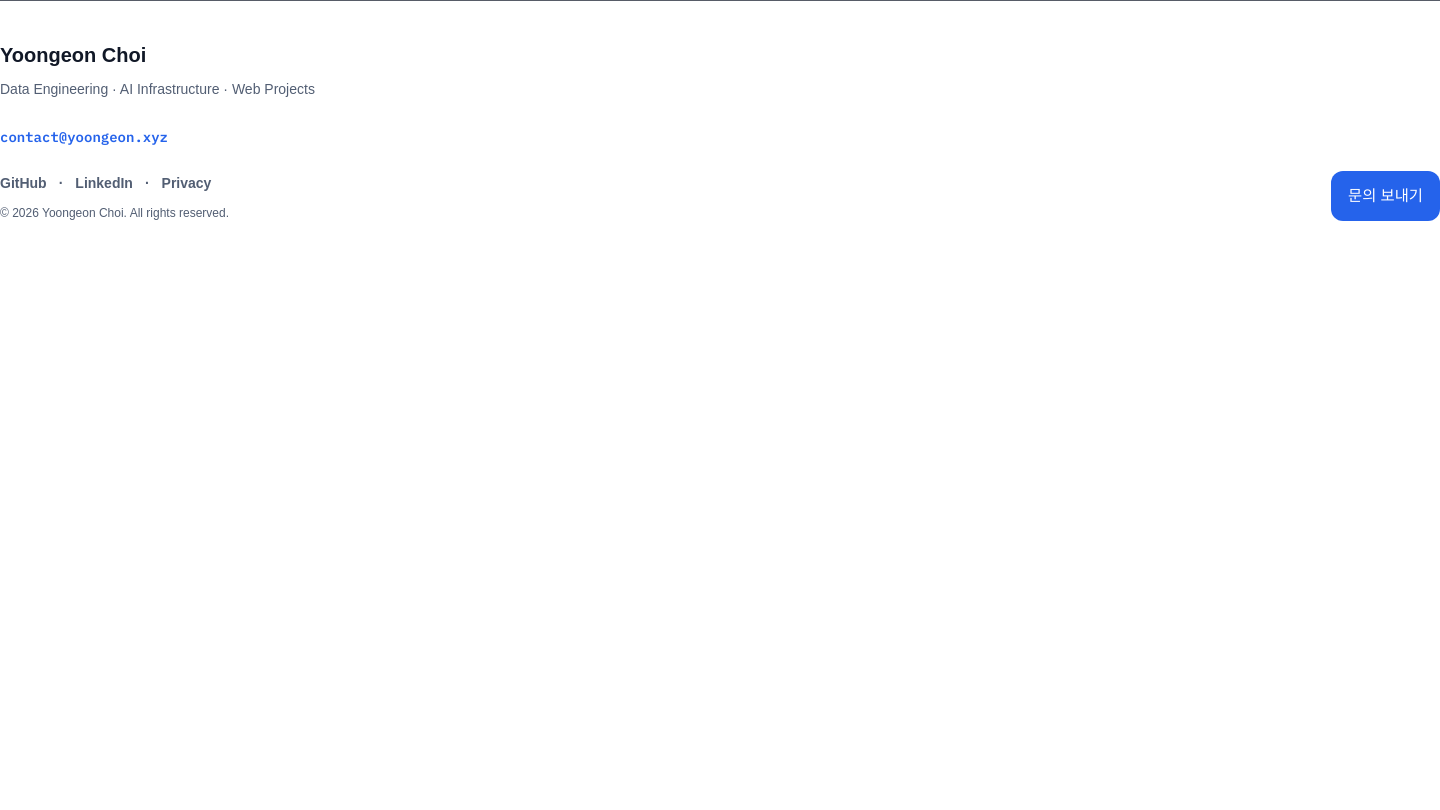
Test: ContactSection › blocks short messages before submitting
Click the button "문의 보내기". click: (1386, 196)
box: [1331,171,1439,221]
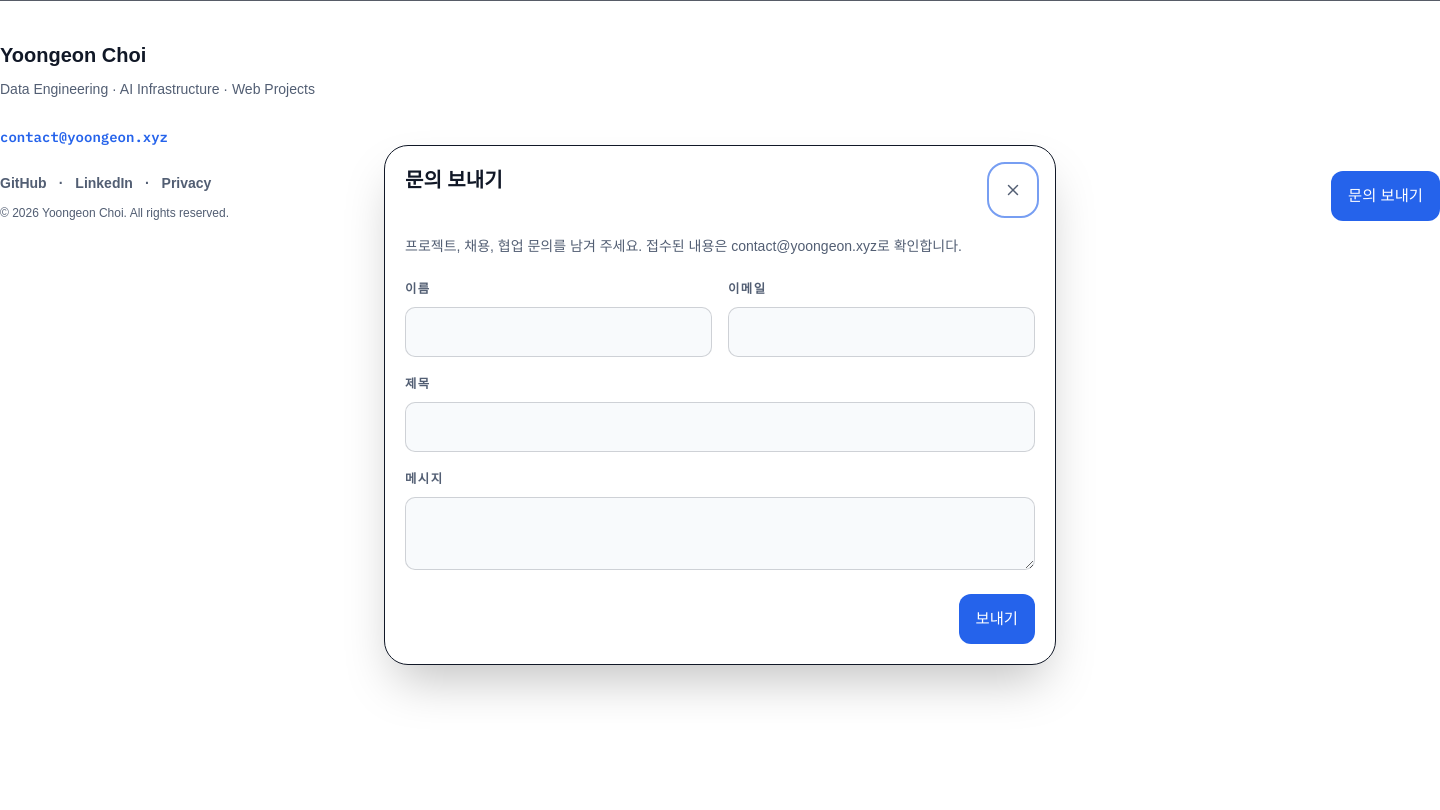
Type "홍길동" into the field labelled "이름". click: (558, 332)
box: [405,307,712,357]
Type "user@example.com" into the field labelled "이메일". click: (882, 332)
box: [728,307,1035,357]
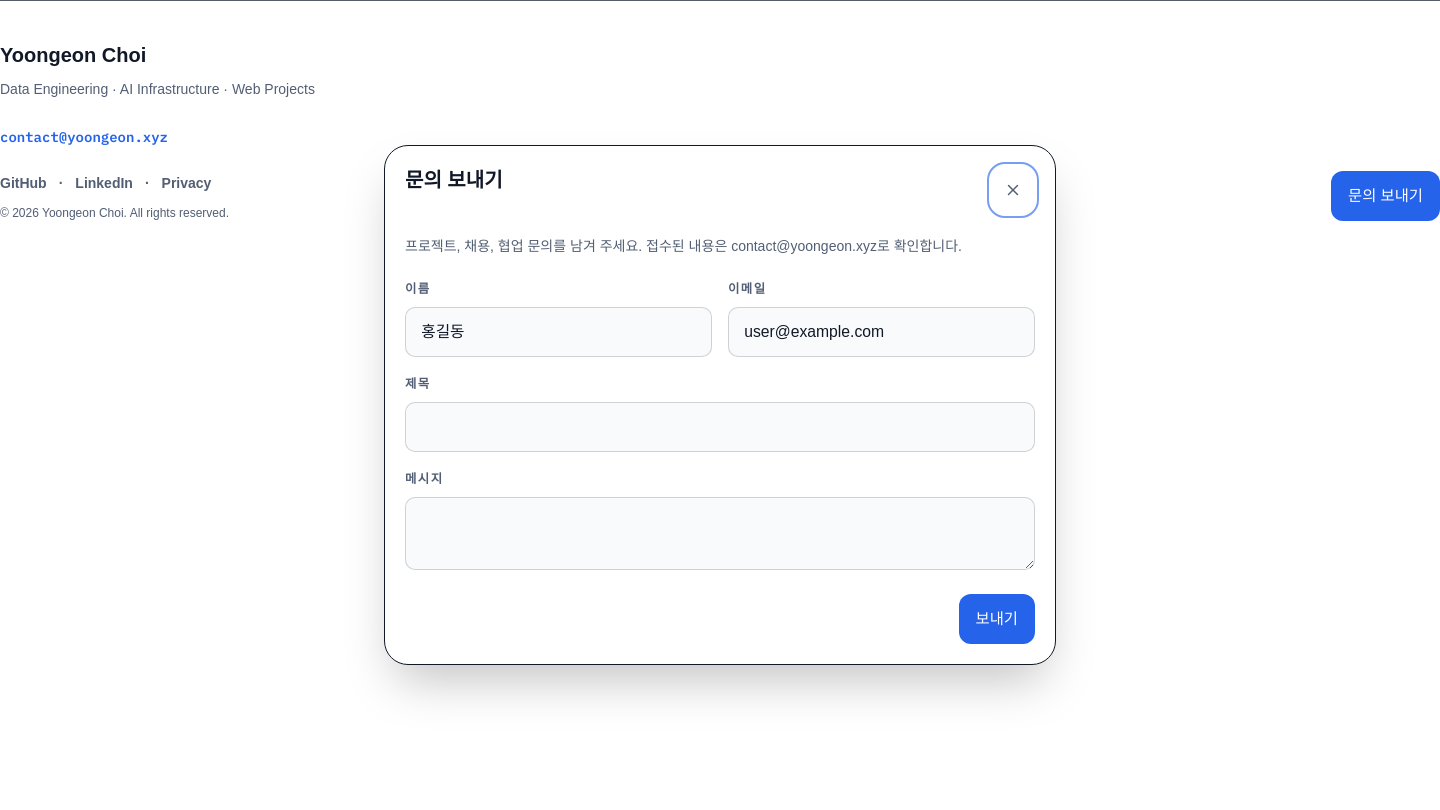
Type "협업 문의" into the field labelled "제목". click: (720, 427)
box: [405,402,1035,452]
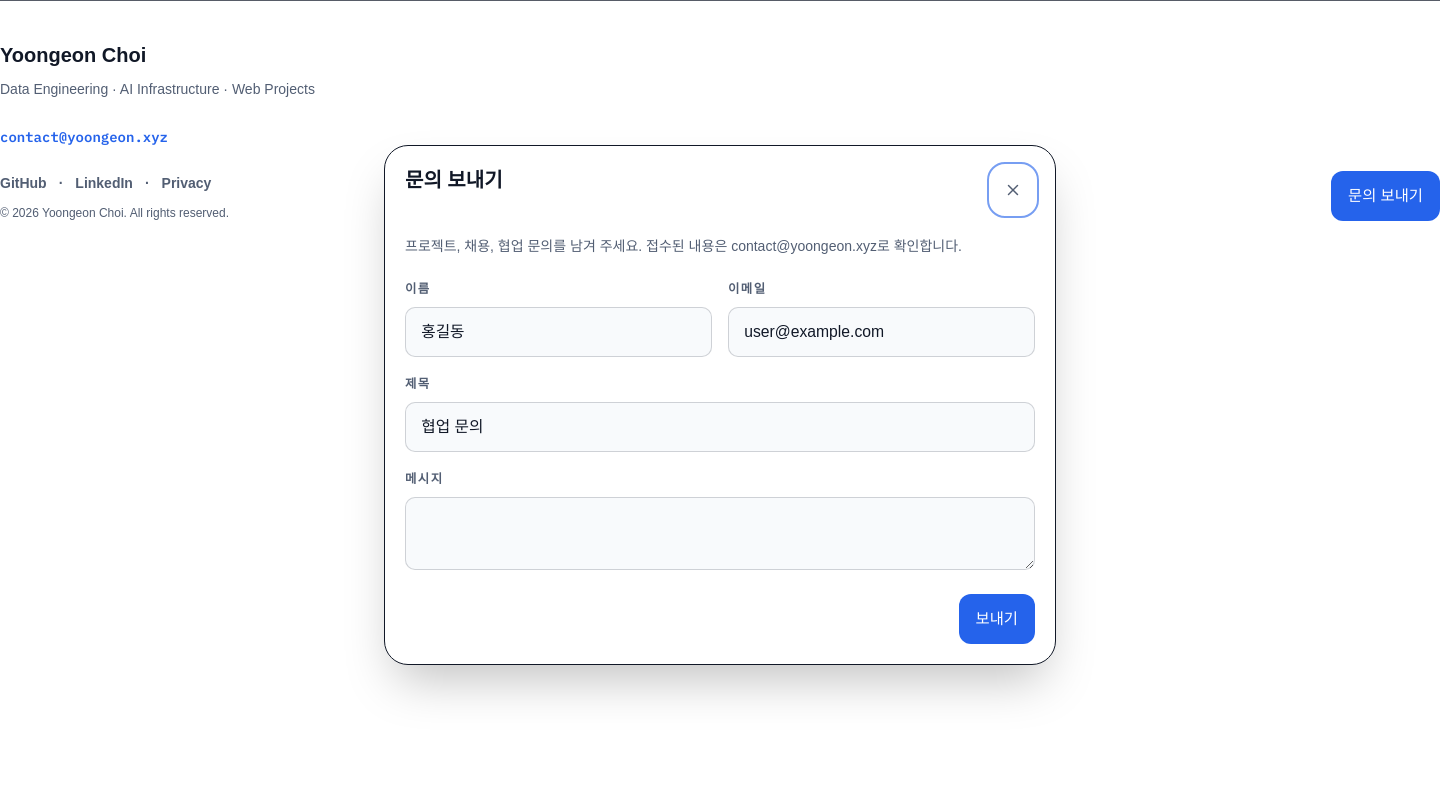
Type "프로젝트 협업 가능 여부를 문의드립니다." into the text box labelled "메시지". click: (720, 534)
box: [405,497,1035,570]
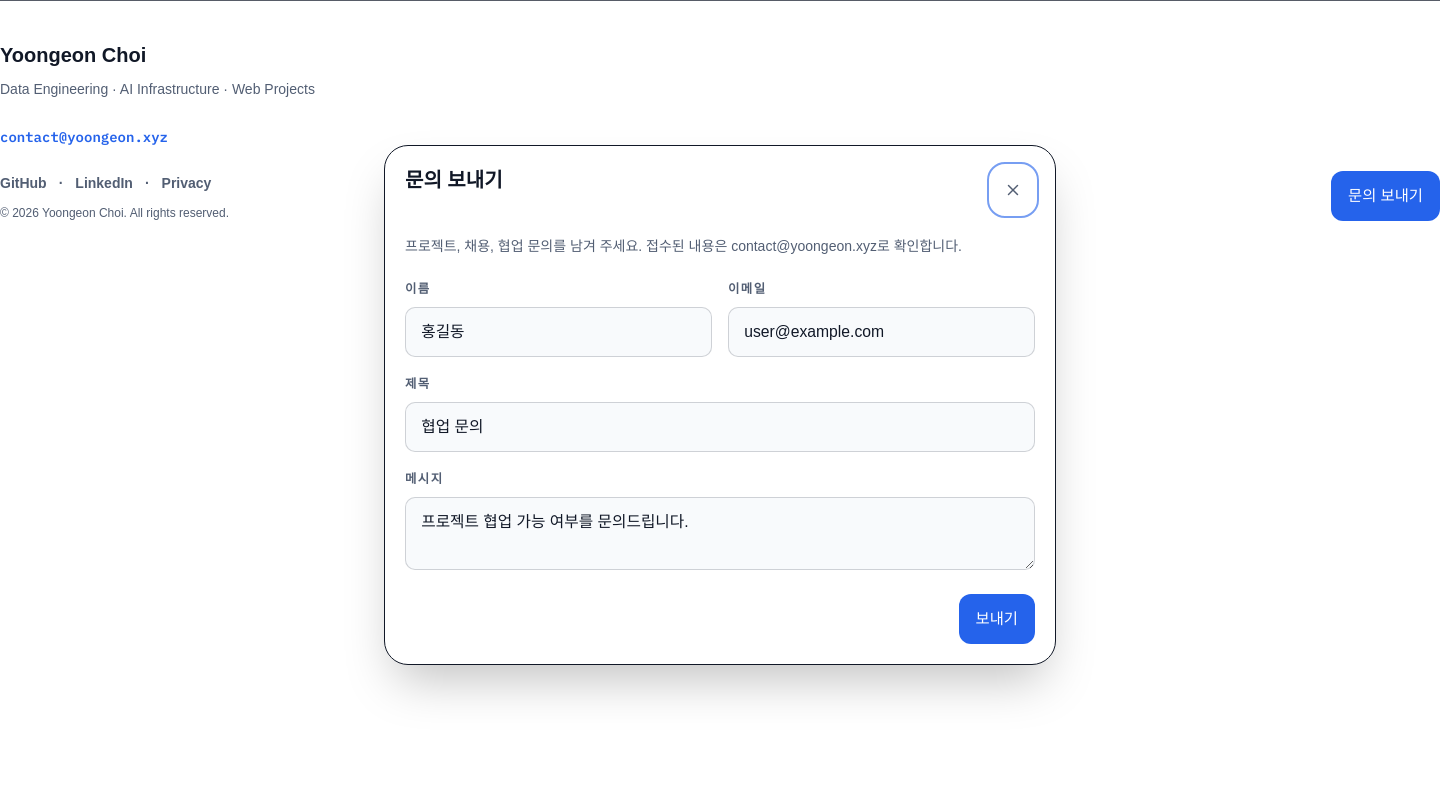
Replace the text in the text box labelled "메시지" with "짧음". click: (720, 534)
box: [405,497,1035,570]
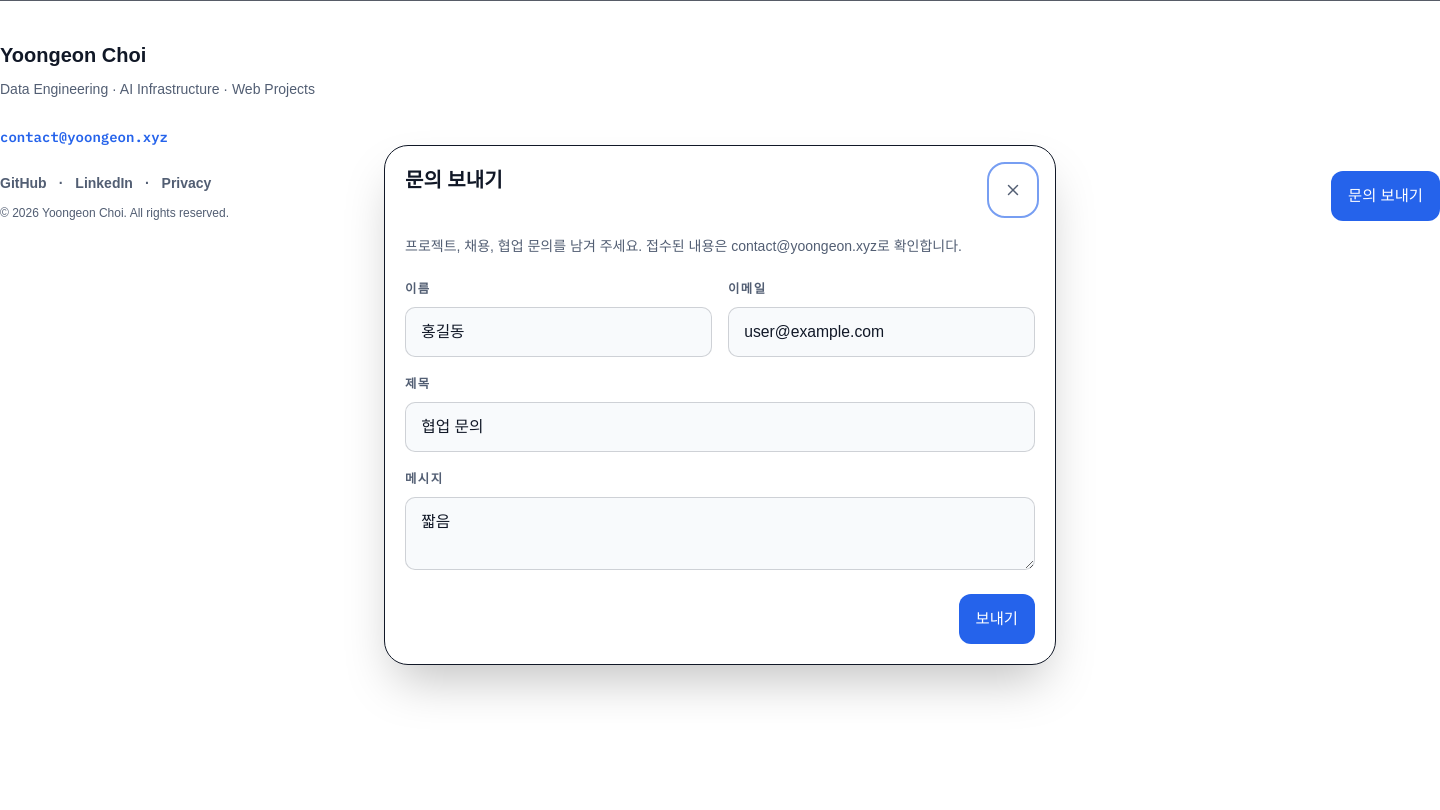
Click the button "보내기". click: (997, 619)
box: [959,594,1035,644]
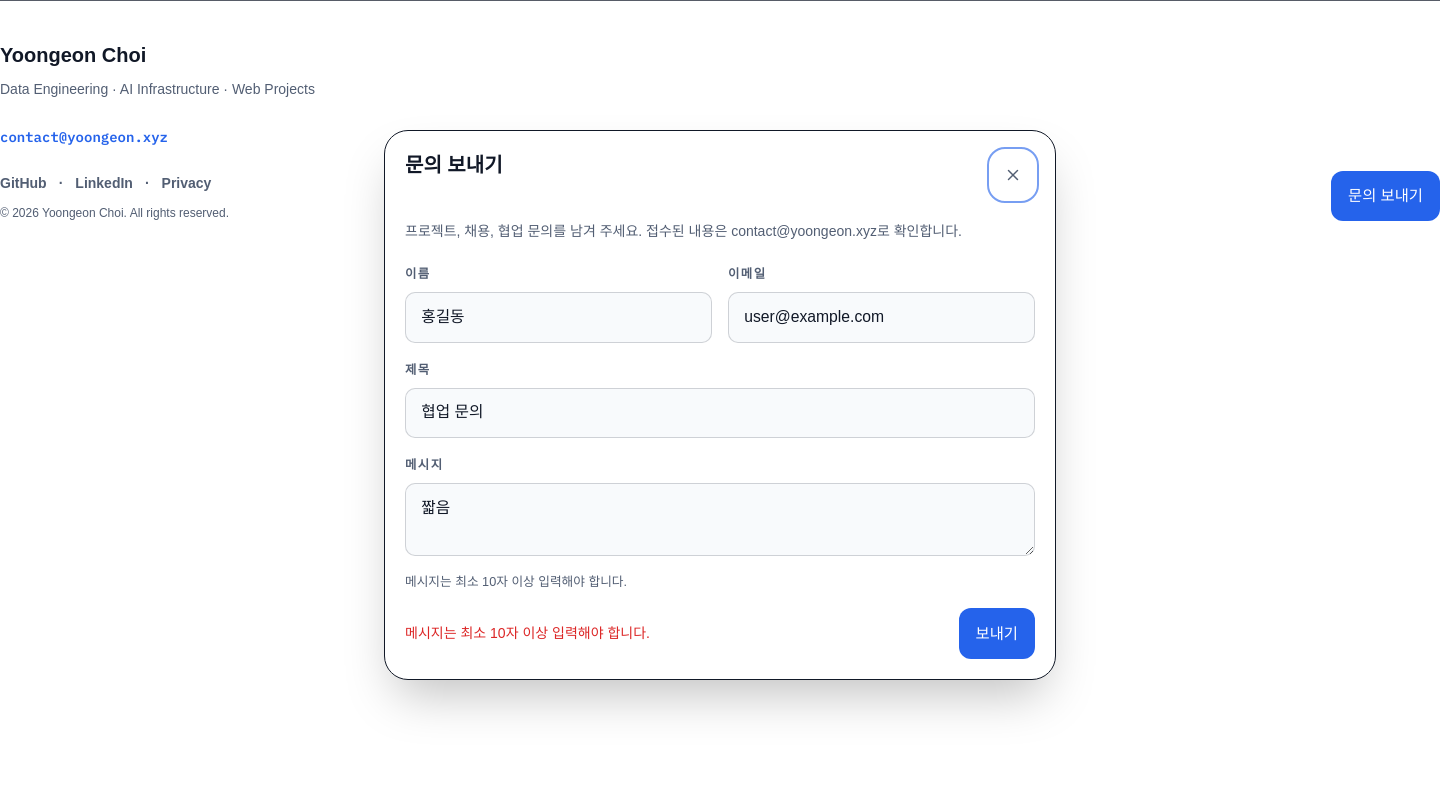
Check: the 1st text "메시지는 최소 10자 이상 입력해야 합니다." is shown, box [405,575,627,589]
